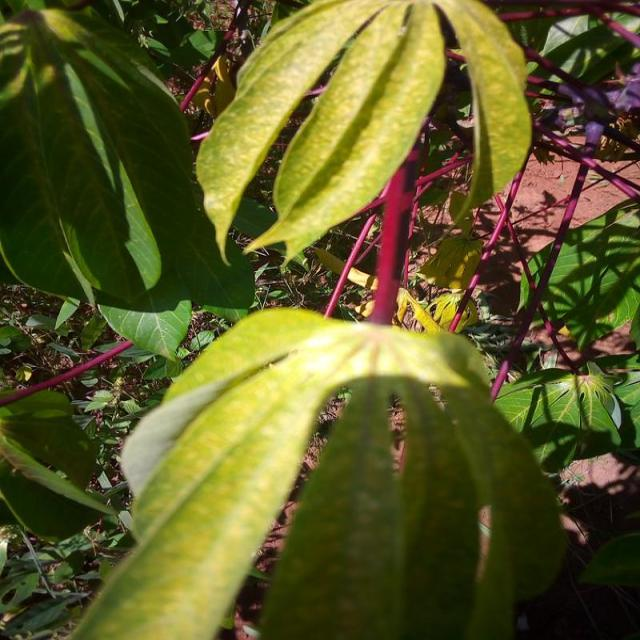cassava leaf: (66, 306, 566, 638), (0, 4, 255, 323), (242, 0, 446, 270)
